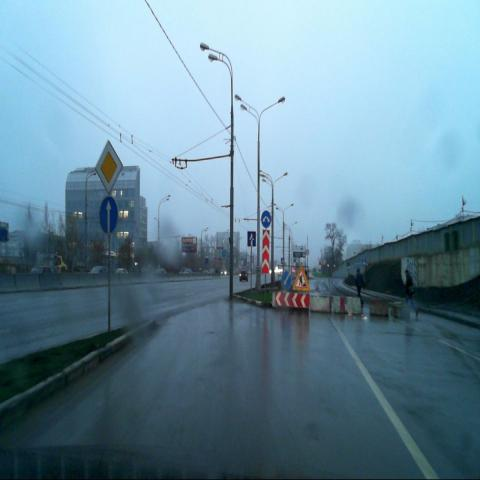4_1_1: (99, 198, 118, 231)
